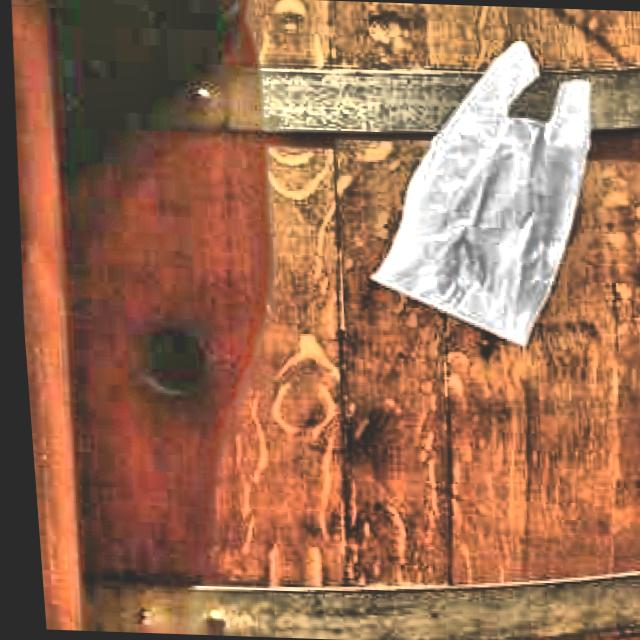Plastic: (334, 24, 628, 352)
